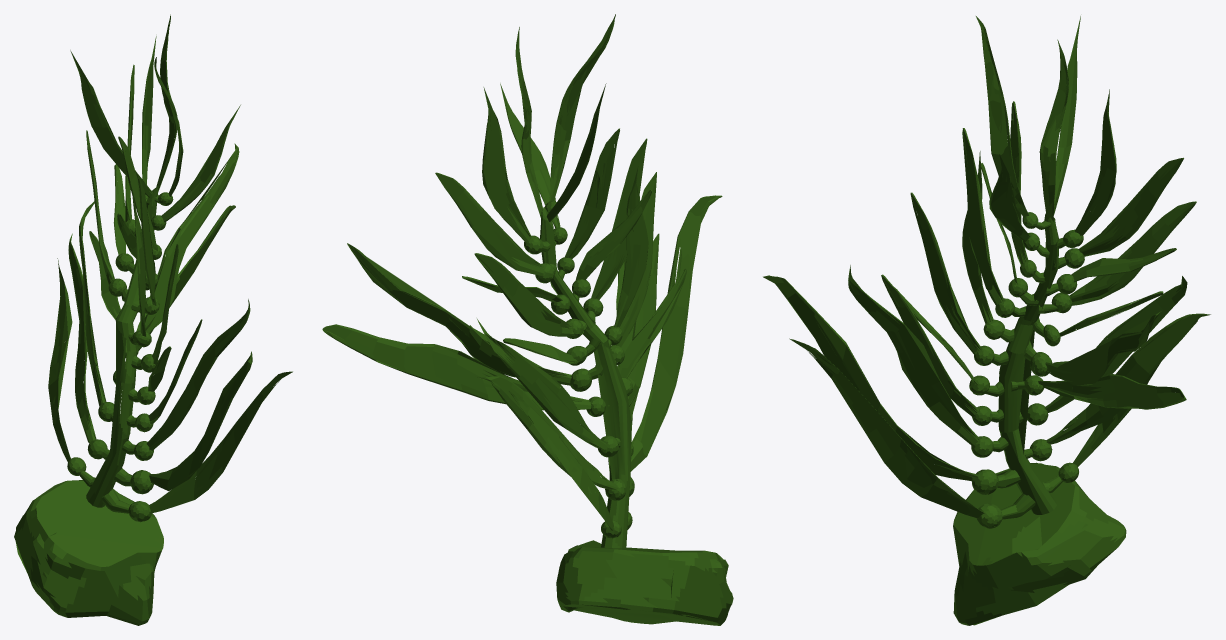
File: Huiro.glb
3 renders of one model, left to right at view 1: azimuth 30°, elevation 25°; view 2: azimuth 150°, elevation 25°; view 3: azimuth 270°, elevation 25°, orthographic. The views are drawn at different scales.
Visible parts, largest first — view 1: Huiro. nomad; view 2: Huiro. nomad; view 3: Huiro. nomad.
Part boxes in pixels (x1=…): Huiro. nomad: x1=14, y1=14, x2=292, y2=625; Huiro. nomad: x1=322, y1=14, x2=733, y2=625; Huiro. nomad: x1=763, y1=16, x2=1210, y2=625.
Size of the model in its own units: 3.42 by 6.43 by 4.21.
